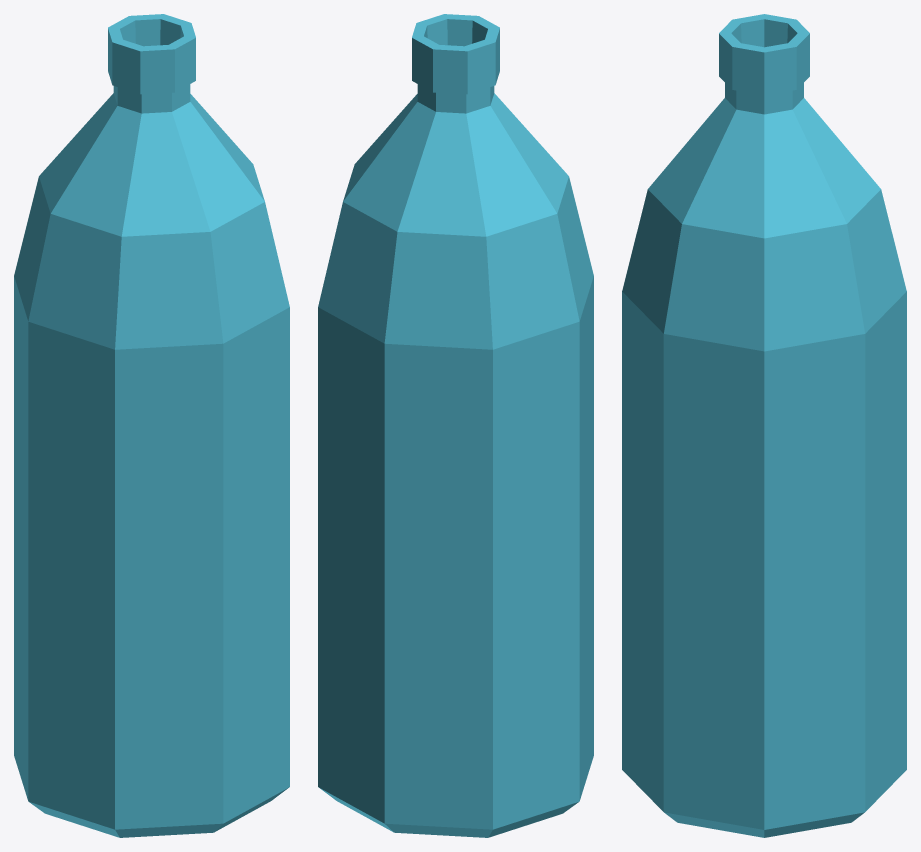
File: NonAlcohol002.FBX
The picture shows the model from 3 angles, left to right: view 1: azimuth 30°, elevation 25°; view 2: azimuth 150°, elevation 25°; view 3: azimuth 270°, elevation 25°; orthographic projection.
Visible parts, largest first — view 1: Water; view 2: Water; view 3: Water.
Boxes of the visible parts, bbox=[...] form: Water: bbox=[14, 14, 289, 837]; Water: bbox=[318, 14, 593, 837]; Water: bbox=[622, 14, 906, 837].
Bounding box in the file's own units: 0.12 × 0.35 × 0.12.
